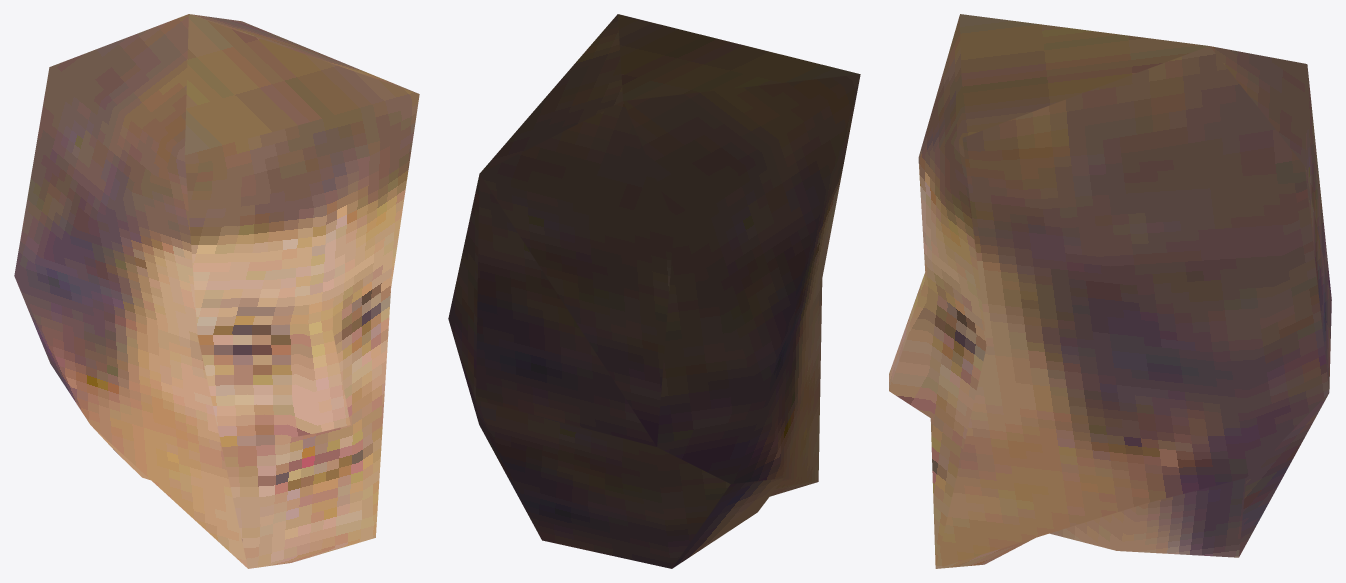
The model's file is CheadmarionZ.obj.
3 renders of one model, left to right at view 1: azimuth 30°, elevation 25°; view 2: azimuth 150°, elevation 25°; view 3: azimuth 270°, elevation 25°, orthographic. The views are drawn at different scales.
Size of the model in its own units: 160 by 234 by 181.
3 materials, 3 textured.
